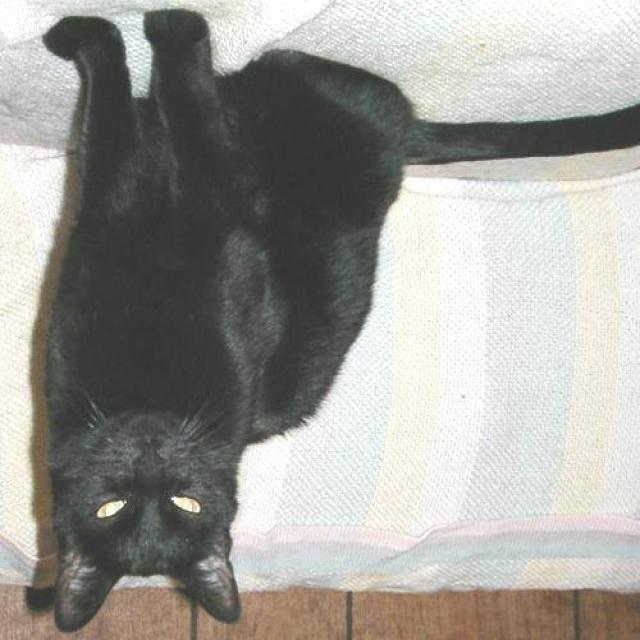Kucing: (2, 20, 510, 640)
